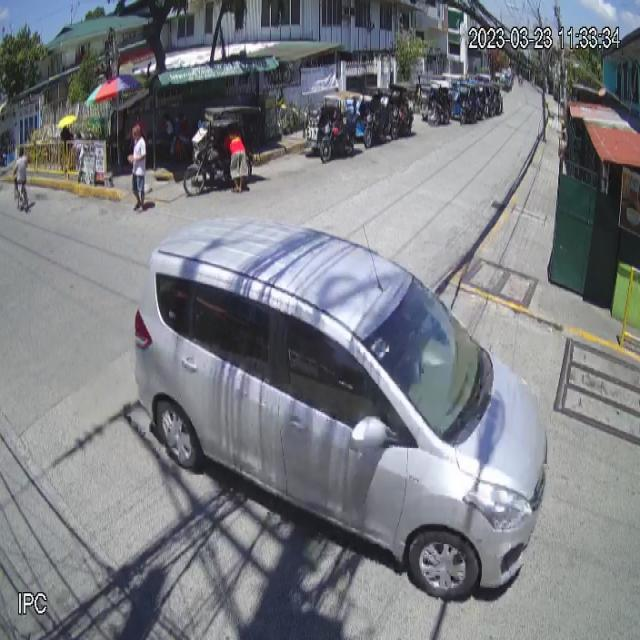Car: (132, 214, 550, 603)
